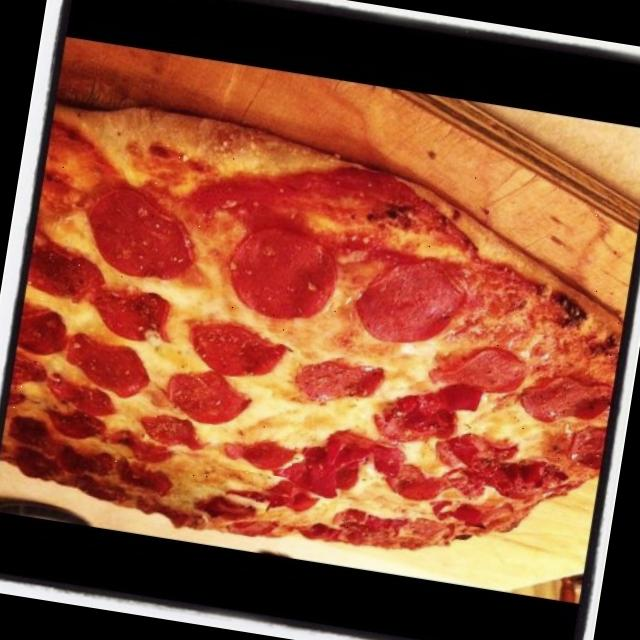pepperoni: (217, 211, 343, 335), (350, 249, 472, 355), (82, 188, 200, 286), (282, 422, 403, 508), (199, 471, 322, 540), (187, 317, 293, 395), (156, 362, 262, 439), (422, 333, 526, 408), (55, 328, 158, 403), (371, 375, 468, 452), (284, 350, 396, 416), (508, 364, 614, 430), (85, 279, 182, 345), (474, 451, 564, 517), (20, 238, 100, 310), (536, 416, 611, 486), (39, 369, 134, 423), (435, 422, 523, 478), (383, 458, 470, 509), (217, 427, 296, 478), (134, 406, 210, 456), (10, 302, 72, 359), (105, 456, 185, 498), (34, 400, 111, 442), (104, 416, 170, 464), (52, 438, 115, 484)
pizza: (2, 106, 620, 550)
